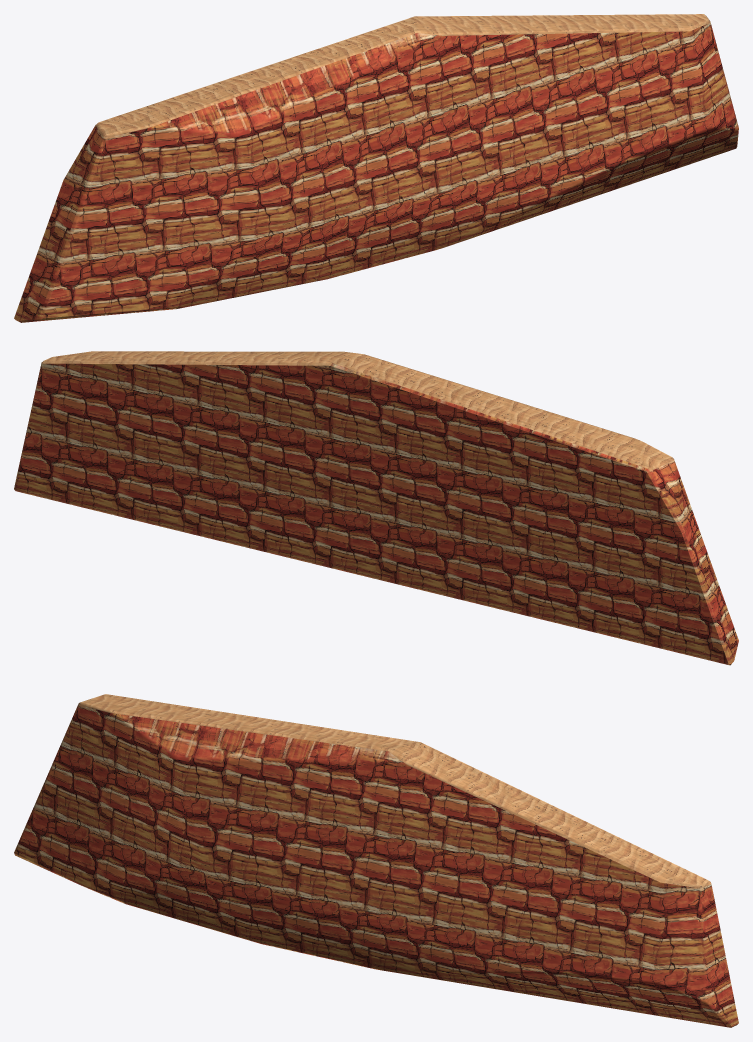
File: v4_cliff_s_02.glb
3 views of the same model, one above another, from view 1: azimuth 30°, elevation 25°; view 2: azimuth 150°, elevation 25°; view 3: azimuth 330°, elevation 25° (orthographic).
Parts seen in each view (by area): view 1: v4_cliff_s_02; view 2: v4_cliff_s_02; view 3: v4_cliff_s_02.
Part boxes in pixels (x1,y1,x2,y2): v4_cliff_s_02: [14, 14, 738, 322]; v4_cliff_s_02: [14, 351, 738, 665]; v4_cliff_s_02: [14, 694, 738, 1027].
Bounding box in the file's own units: 21.8 × 6 × 2.4.
Materials: 1 (1 with a texture image).
